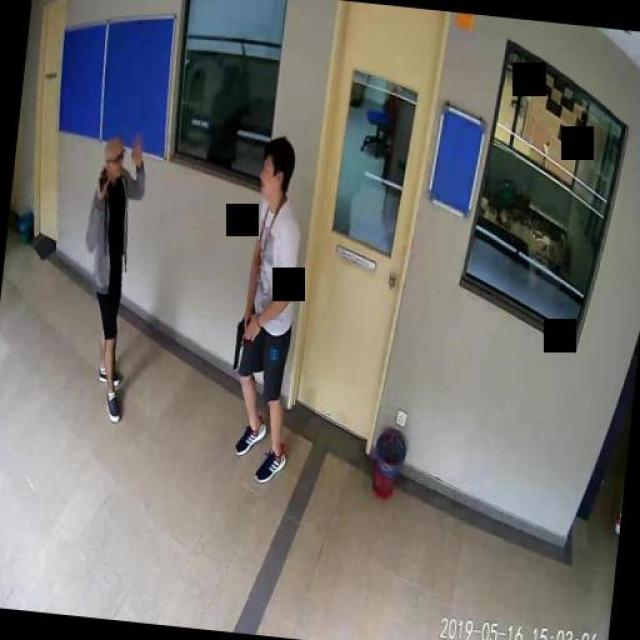gun: (232, 312, 252, 368)
